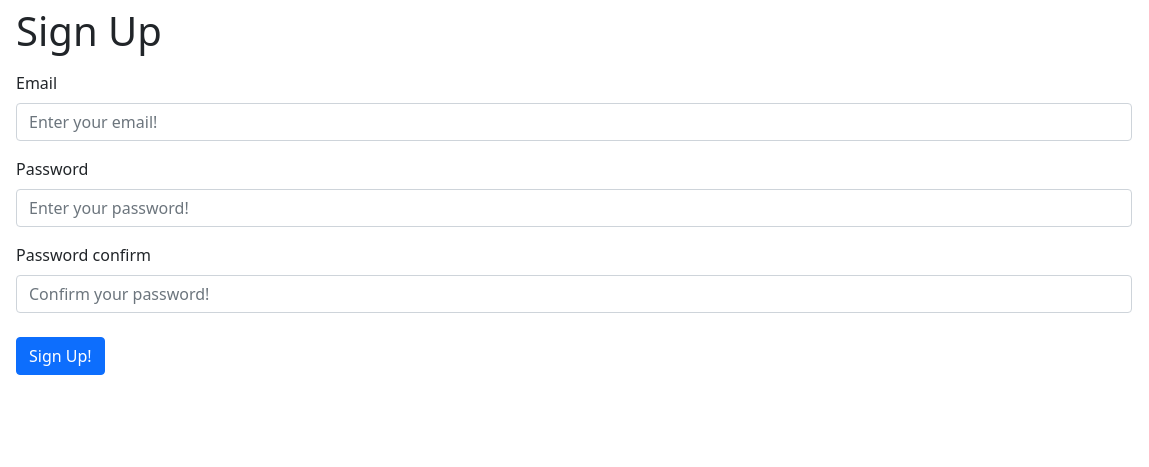
Test: signup page tests › When 'Save!' is pressed with no input content, all inputs should show error
Click the button "Sign Up!" at (60, 356), box top-left (16, 337), bottom-right (105, 375)
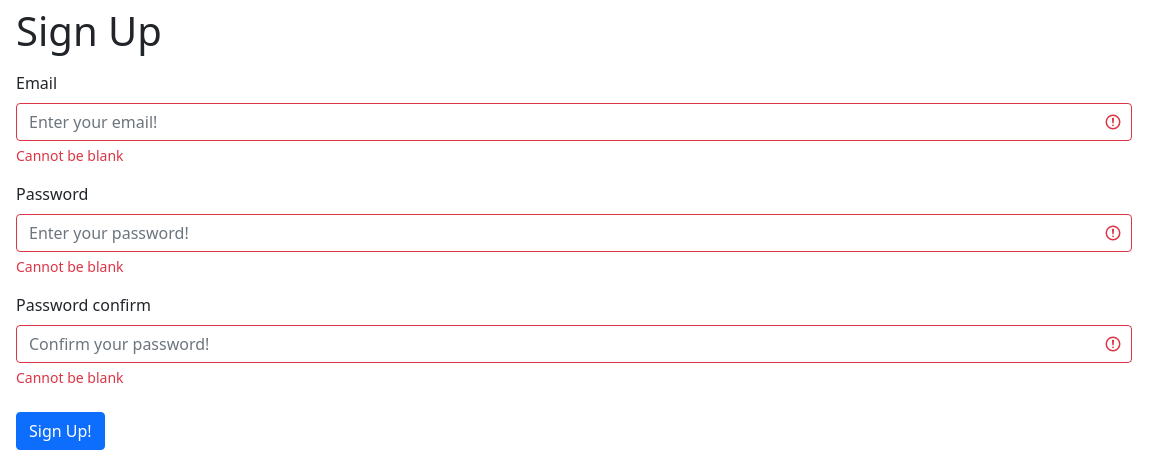
Now the element with test id "input" shows "Cannot be blank", box top-left (16, 146), bottom-right (124, 165)
